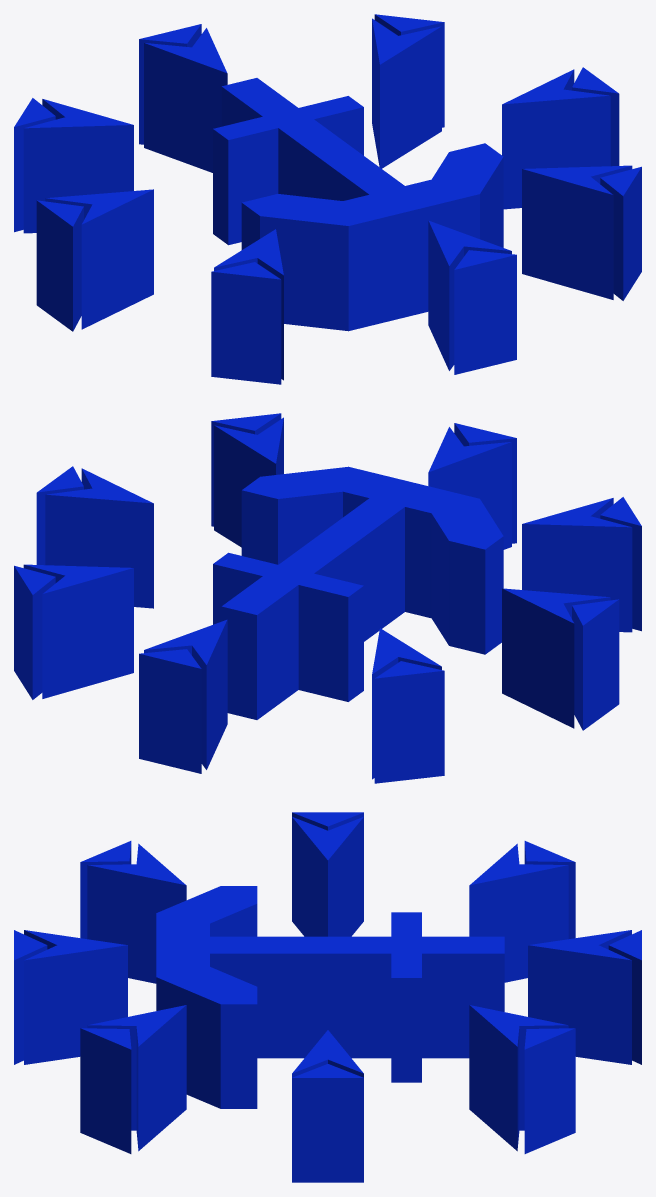
File: naval_rally_point.fbx
3 views of the same model, one above another, from view 1: azimuth 30°, elevation 25°; view 2: azimuth 150°, elevation 25°; view 3: azimuth 270°, elevation 25° (orthographic).
Parts seen in each view (by area): view 1: Gear; view 2: Gear; view 3: Gear.
Boxes of the visible parts, <box> form: Gear: <box>14,14,641,384</box>; Gear: <box>14,413,641,783</box>; Gear: <box>14,812,641,1182</box>.
Size of the model in its own units: 211 by 38.84 by 211.
